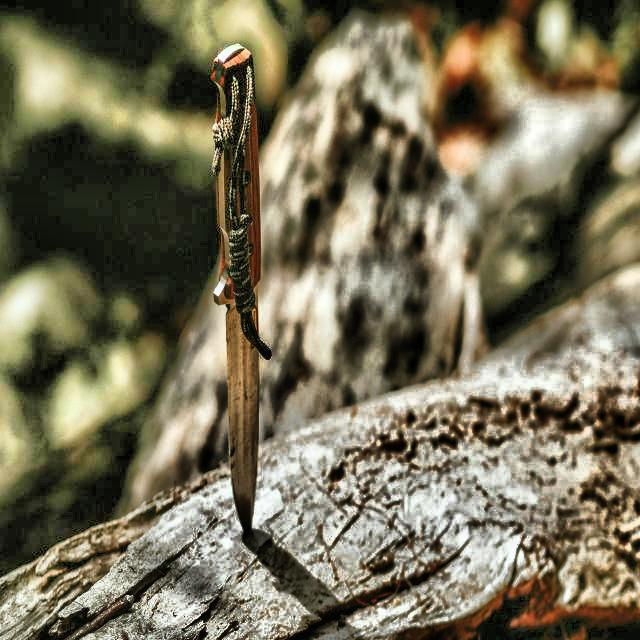knife: (210, 36, 262, 534)
